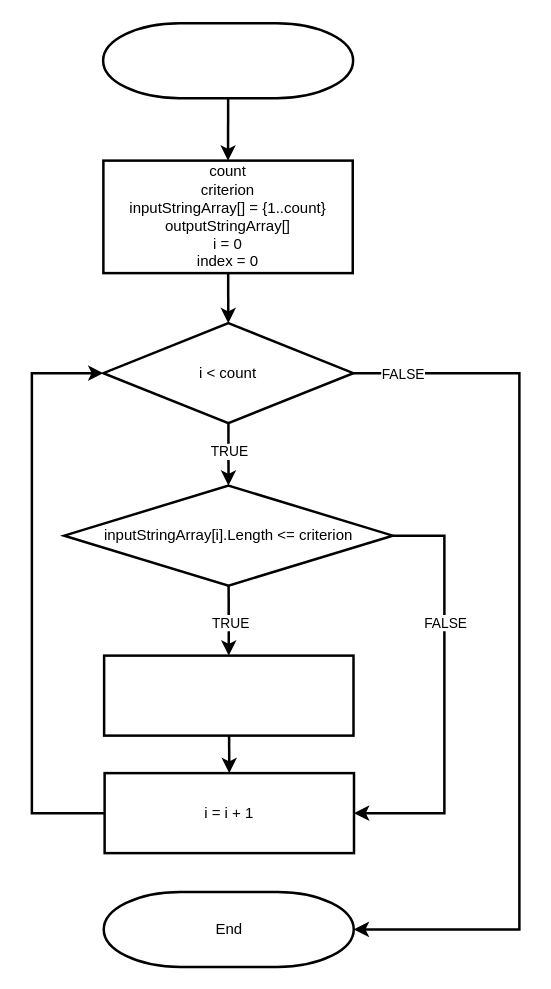
Some shapes in this 551 by 989 pixel diagram are drawn without their labels. The shapes that lost their labels are listed below. From the top down, each one's centre as x and y in pixels, then its label:
(x=227, y=60): Start
(x=228, y=695): outputStringArray[index] = inputStringArray[i] index = index + 1
